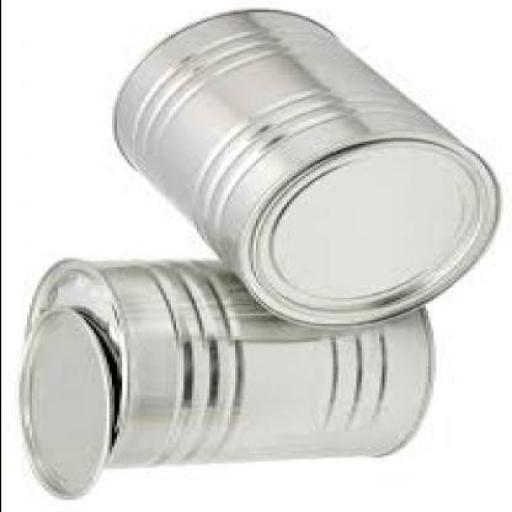metal: (110, 10, 497, 332), (26, 263, 429, 472), (16, 310, 106, 502)
